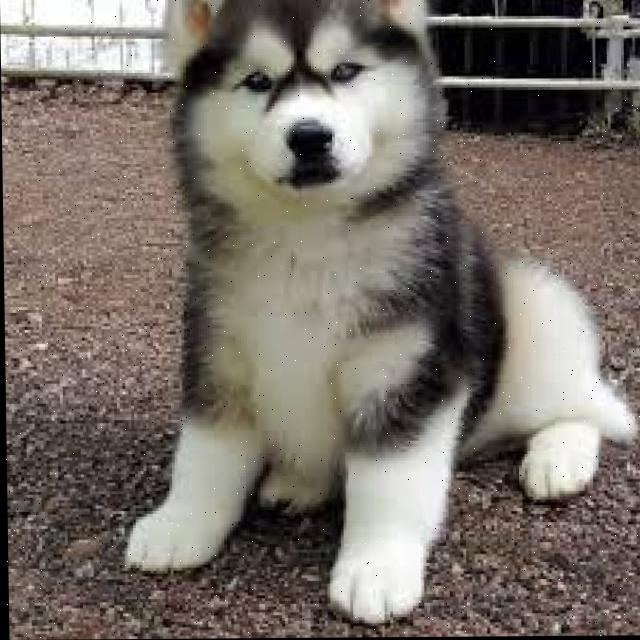ALASKAN_MALAMUTE: (78, 0, 631, 632)
